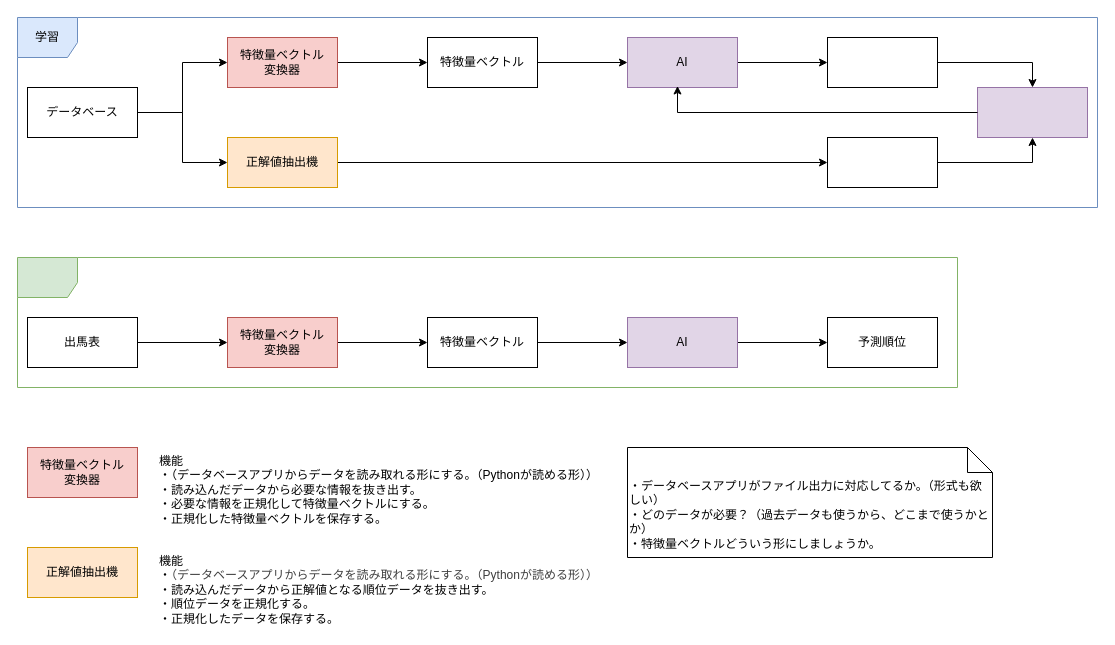
Some shapes in this 1115 by 645 pixel diagram are drawn without their labels. The shapes that lost their labels are listed below. From the top down, each one's centre as x and y in pixels, then its label:
At point (882, 62): "予想順位".
At point (1032, 112): "パラメーターの 更新".
At point (882, 162): "正解順位".
At point (487, 322): "実践".
